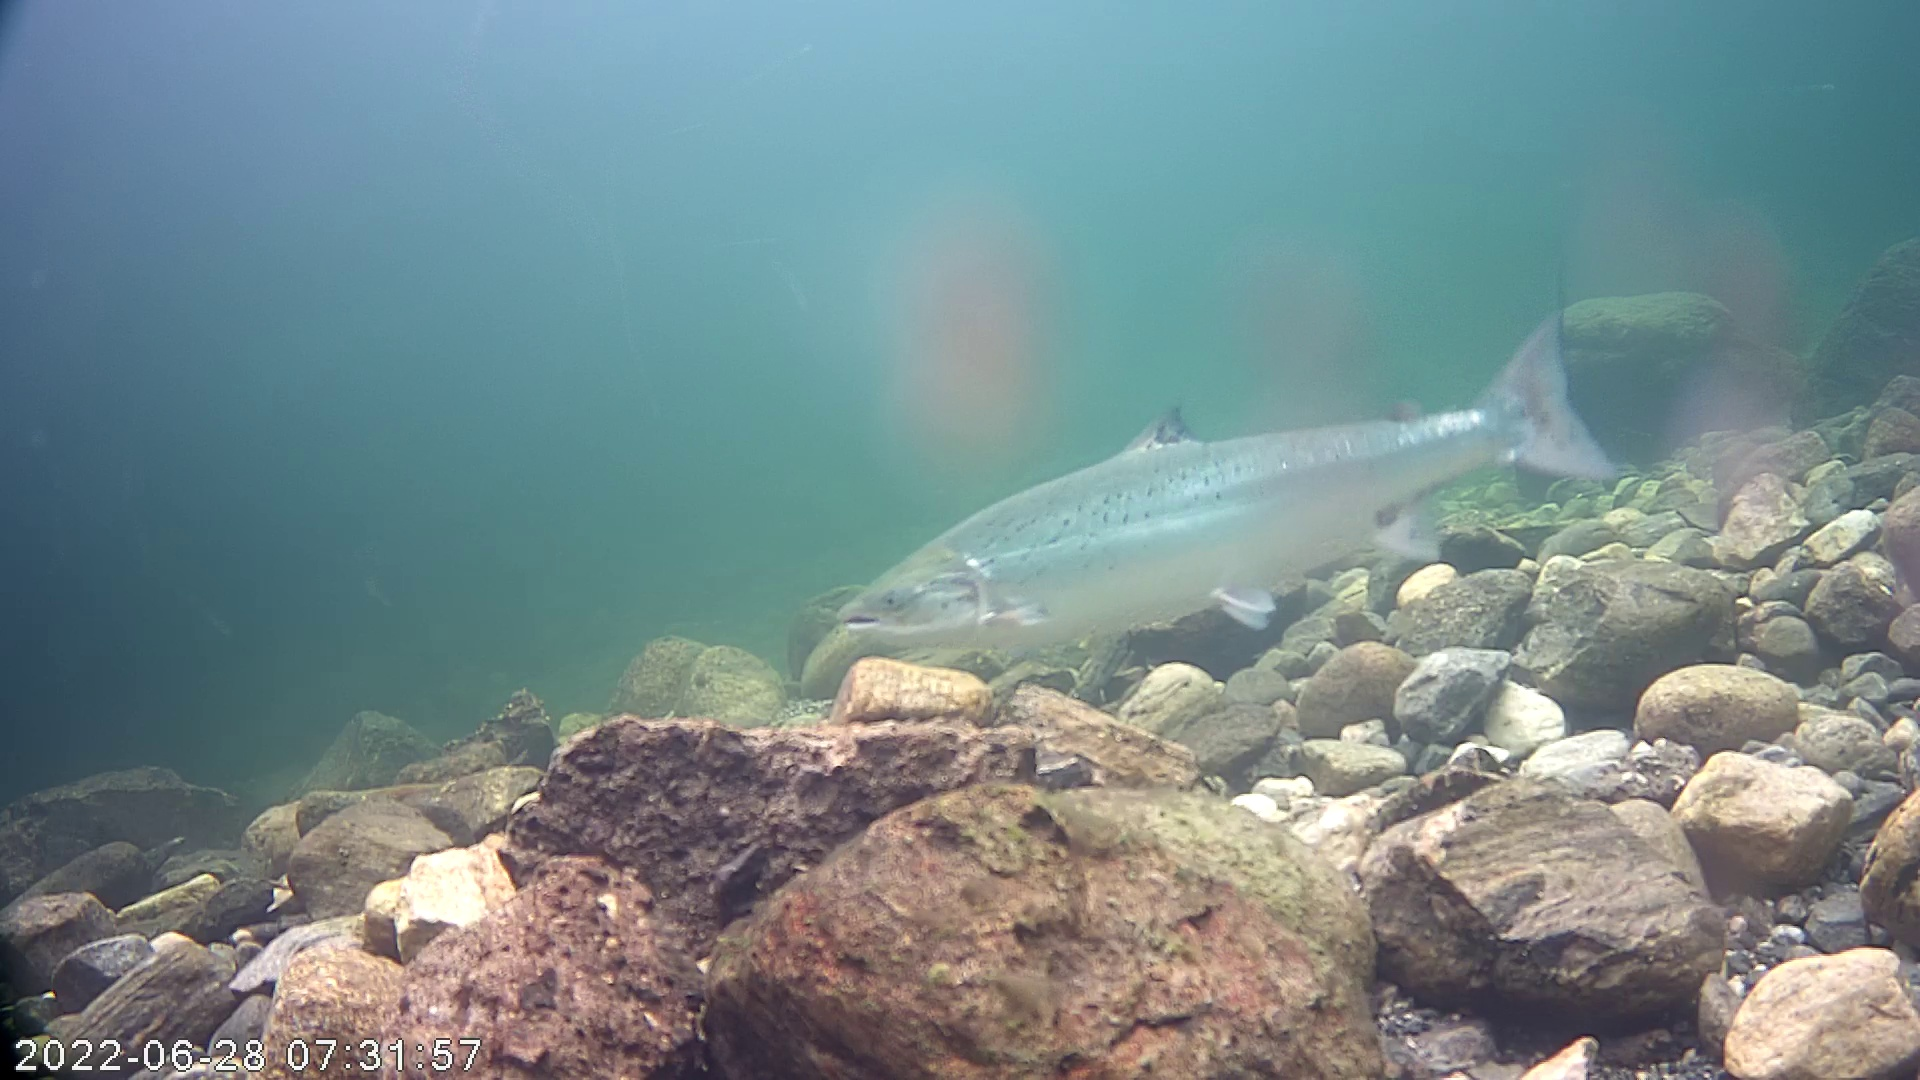salmon: (831, 214, 1638, 684)
